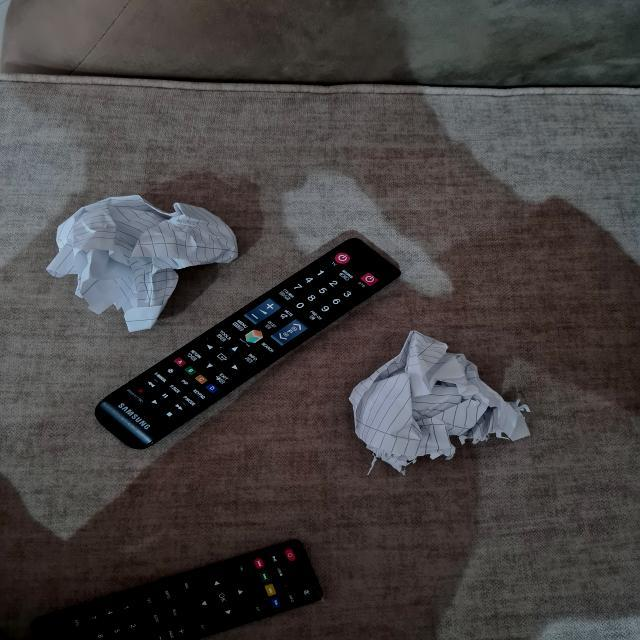Paper: (44, 153, 218, 329), (316, 330, 548, 458)
